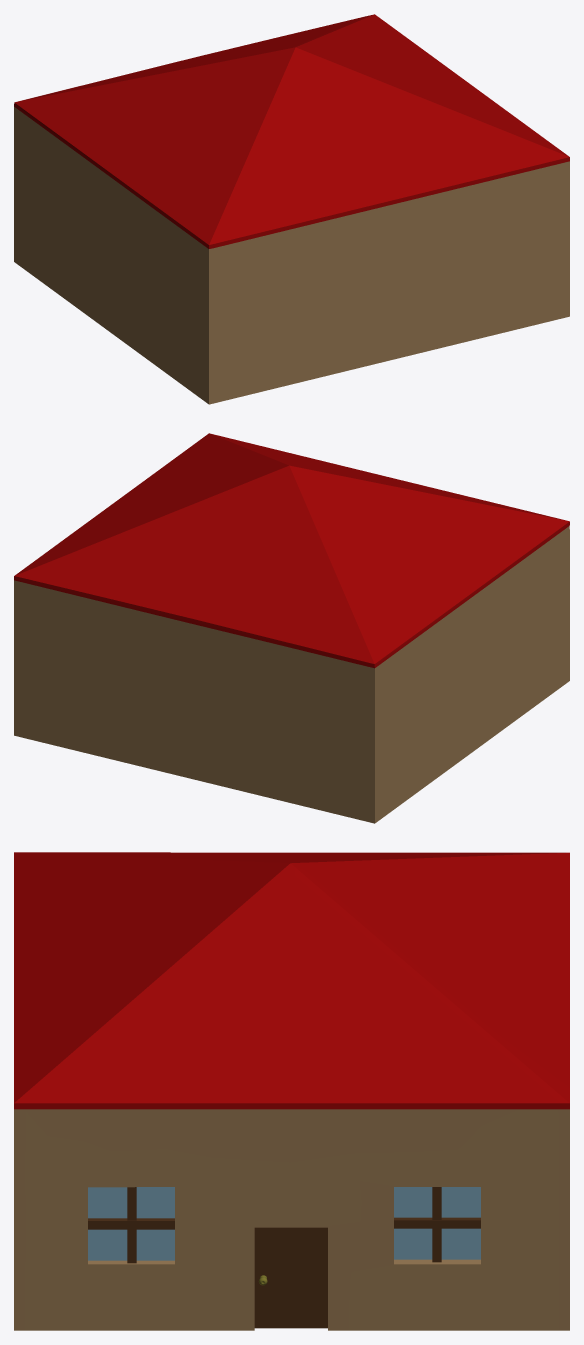
File: House_Standalone.fbx
3 renders of one model, top to bottom at view 1: azimuth 30°, elevation 25°; view 2: azimuth 150°, elevation 25°; view 3: azimuth 270°, elevation 25°, orthographic. The views are drawn at different scales.
Parts seen in each view (by area): view 1: polySurface13; view 2: polySurface13; view 3: polySurface13.
Part boxes in pixels (x1,y1,x2,y2): polySurface13: (14, 14, 569, 404); polySurface13: (14, 433, 569, 823); polySurface13: (14, 852, 569, 1330).
Bounding box in the file's own units: 16.55 × 10.51 × 15.39.
